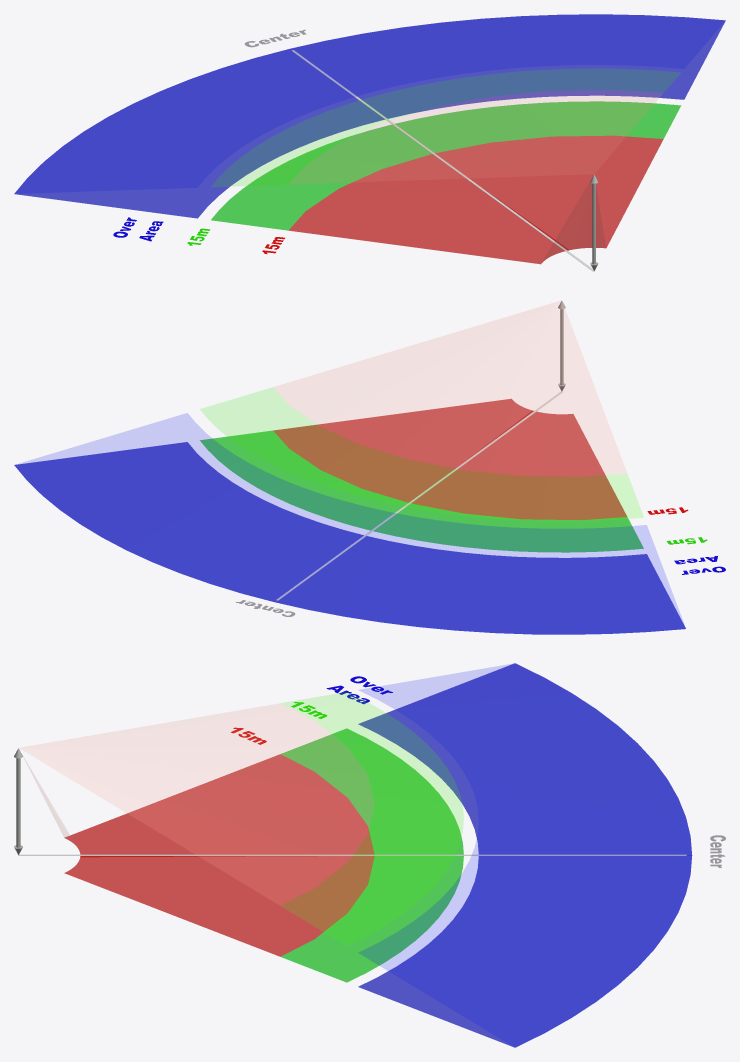
The model's file is area_14.glb.
The picture shows the model from 3 angles, top to bottom: view 1: azimuth 30°, elevation 25°; view 2: azimuth 150°, elevation 25°; view 3: azimuth 270°, elevation 25°; orthographic projection. The views are drawn at different scales.
Parts seen in each view (by area): view 1: defaultobject.001, defaultobject.003, defaultobject.002, 立方体; view 2: defaultobject.001, defaultobject.003, defaultobject.002, 立方体; view 3: defaultobject.001, defaultobject.003, defaultobject.002, 立方体.
Part boxes in pixels (x1=…): defaultobject.001: x1=14, y1=14, x2=725, y2=218; defaultobject.003: x1=288, y1=90, x2=663, y2=264; defaultobject.002: x1=211, y1=69, x2=681, y2=230; 立方体: x1=291, y1=50, x2=594, y2=271; defaultobject.001: x1=14, y1=413, x2=685, y2=634; defaultobject.003: x1=273, y1=301, x2=626, y2=520; defaultobject.002: x1=200, y1=388, x2=643, y2=552; 立方体: x1=276, y1=391, x2=562, y2=600; defaultobject.001: x1=358, y1=663, x2=692, y2=1047; defaultobject.003: x1=20, y1=704, x2=374, y2=956; defaultobject.002: x1=281, y1=692, x2=463, y2=982; 立方体: x1=18, y1=854, x2=686, y2=855.
Size of the model in its own units: 30.65 by 4 by 23.98.
